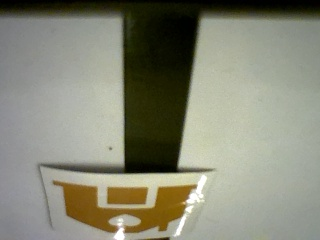Rescue_Station: (52, 180, 197, 235)
